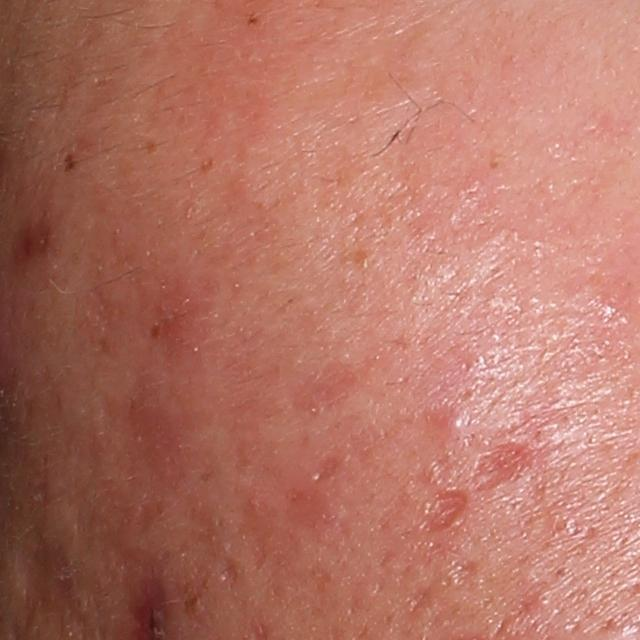atrophic_scar: (469, 441, 539, 496), (417, 486, 477, 535), (439, 557, 492, 589), (310, 455, 345, 481)
